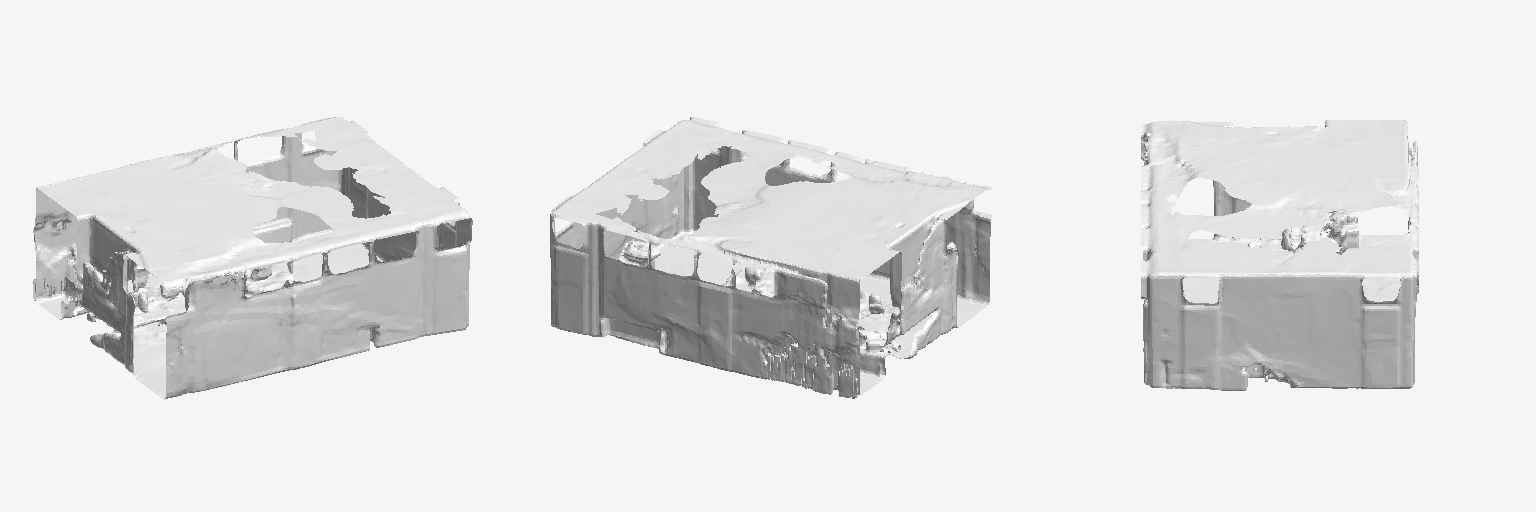
Rendered from EnacPart2.obj.
3 renders of one model, left to right at view 1: azimuth 30°, elevation 25°; view 2: azimuth 150°, elevation 25°; view 3: azimuth 270°, elevation 25°, orthographic.
Parts seen in each view (by area): view 1: mesh; view 2: mesh; view 3: mesh.
Part boxes in pixels (bbox=[...]): mesh: bbox=[32, 116, 472, 399]; mesh: bbox=[550, 117, 992, 398]; mesh: bbox=[1141, 120, 1418, 390].
Bounding box in the file's own units: 8.06 × 3 × 6.19.